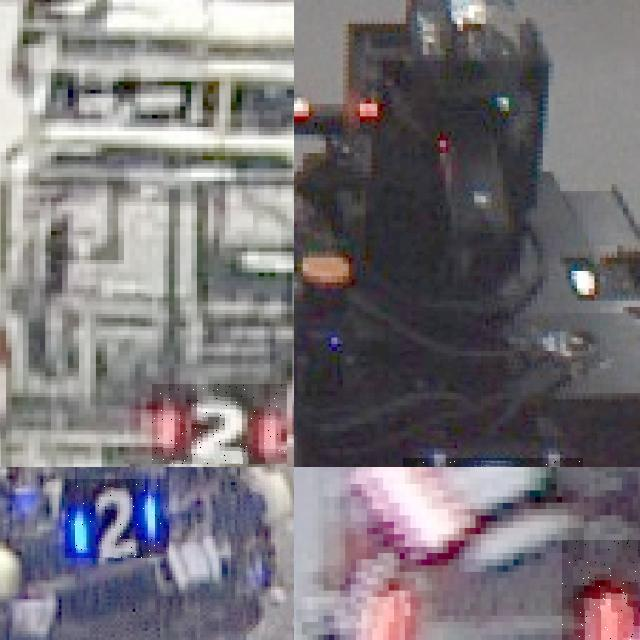B2: (65, 479, 169, 558)
R2: (152, 384, 287, 464)
R4: (562, 540, 640, 640)
